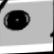correct: (1, 8, 35, 33)
